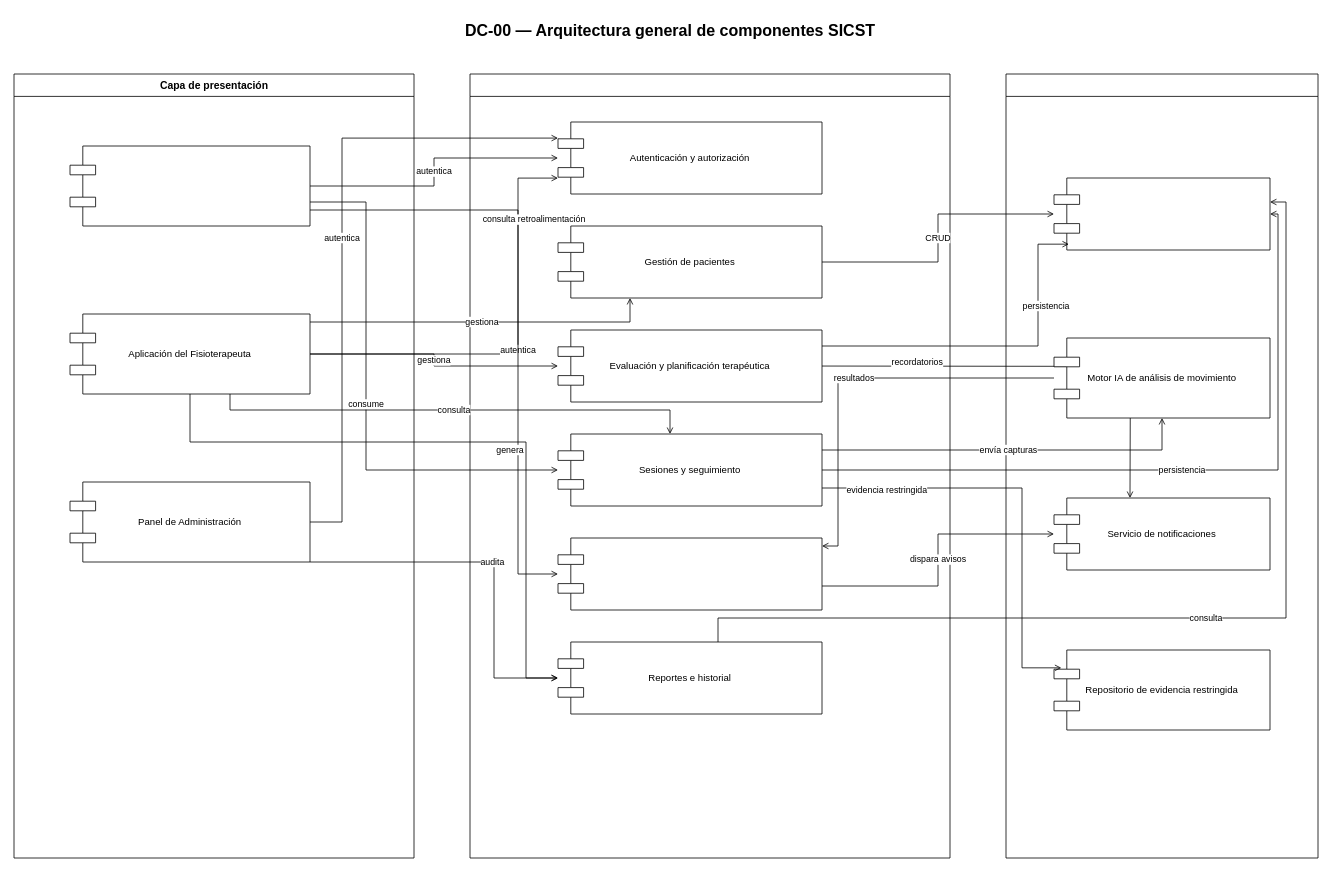
Image size: 1332x872. Some labels were removed from this diagram. Here are the shapes that lost their labels. From the top down, the box of each, then its label:
(69, 145, 310, 226): Aplicación del Paciente
(1053, 177, 1270, 250): Persistencia / Base de datos
(469, 73, 950, 858): Servicios de aplicación / dominio
(1005, 73, 1318, 858): Infraestructura e integraciones
(557, 537, 822, 610): Analítica, alertas y recomendaciones
